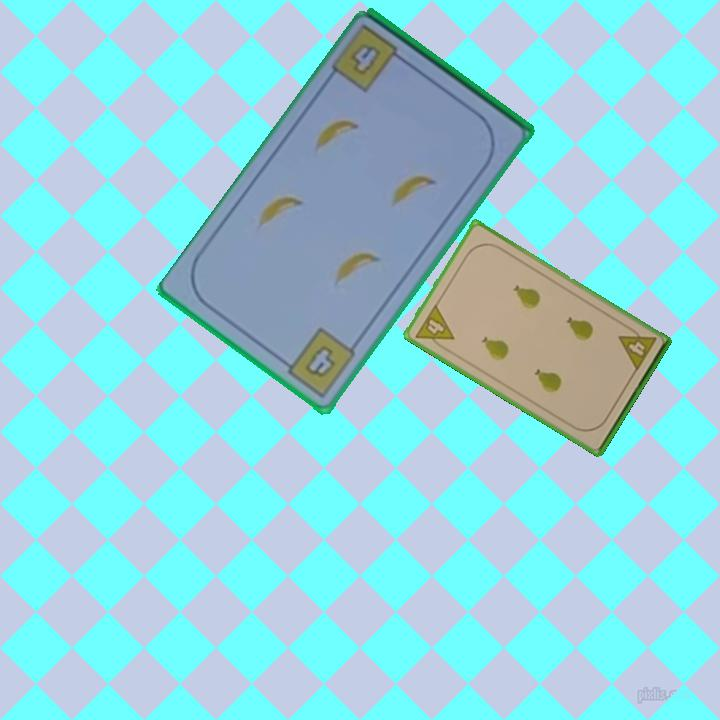4b: (277, 324, 359, 401), (347, 40, 384, 79)
4p: (411, 300, 457, 354), (615, 322, 659, 374)
